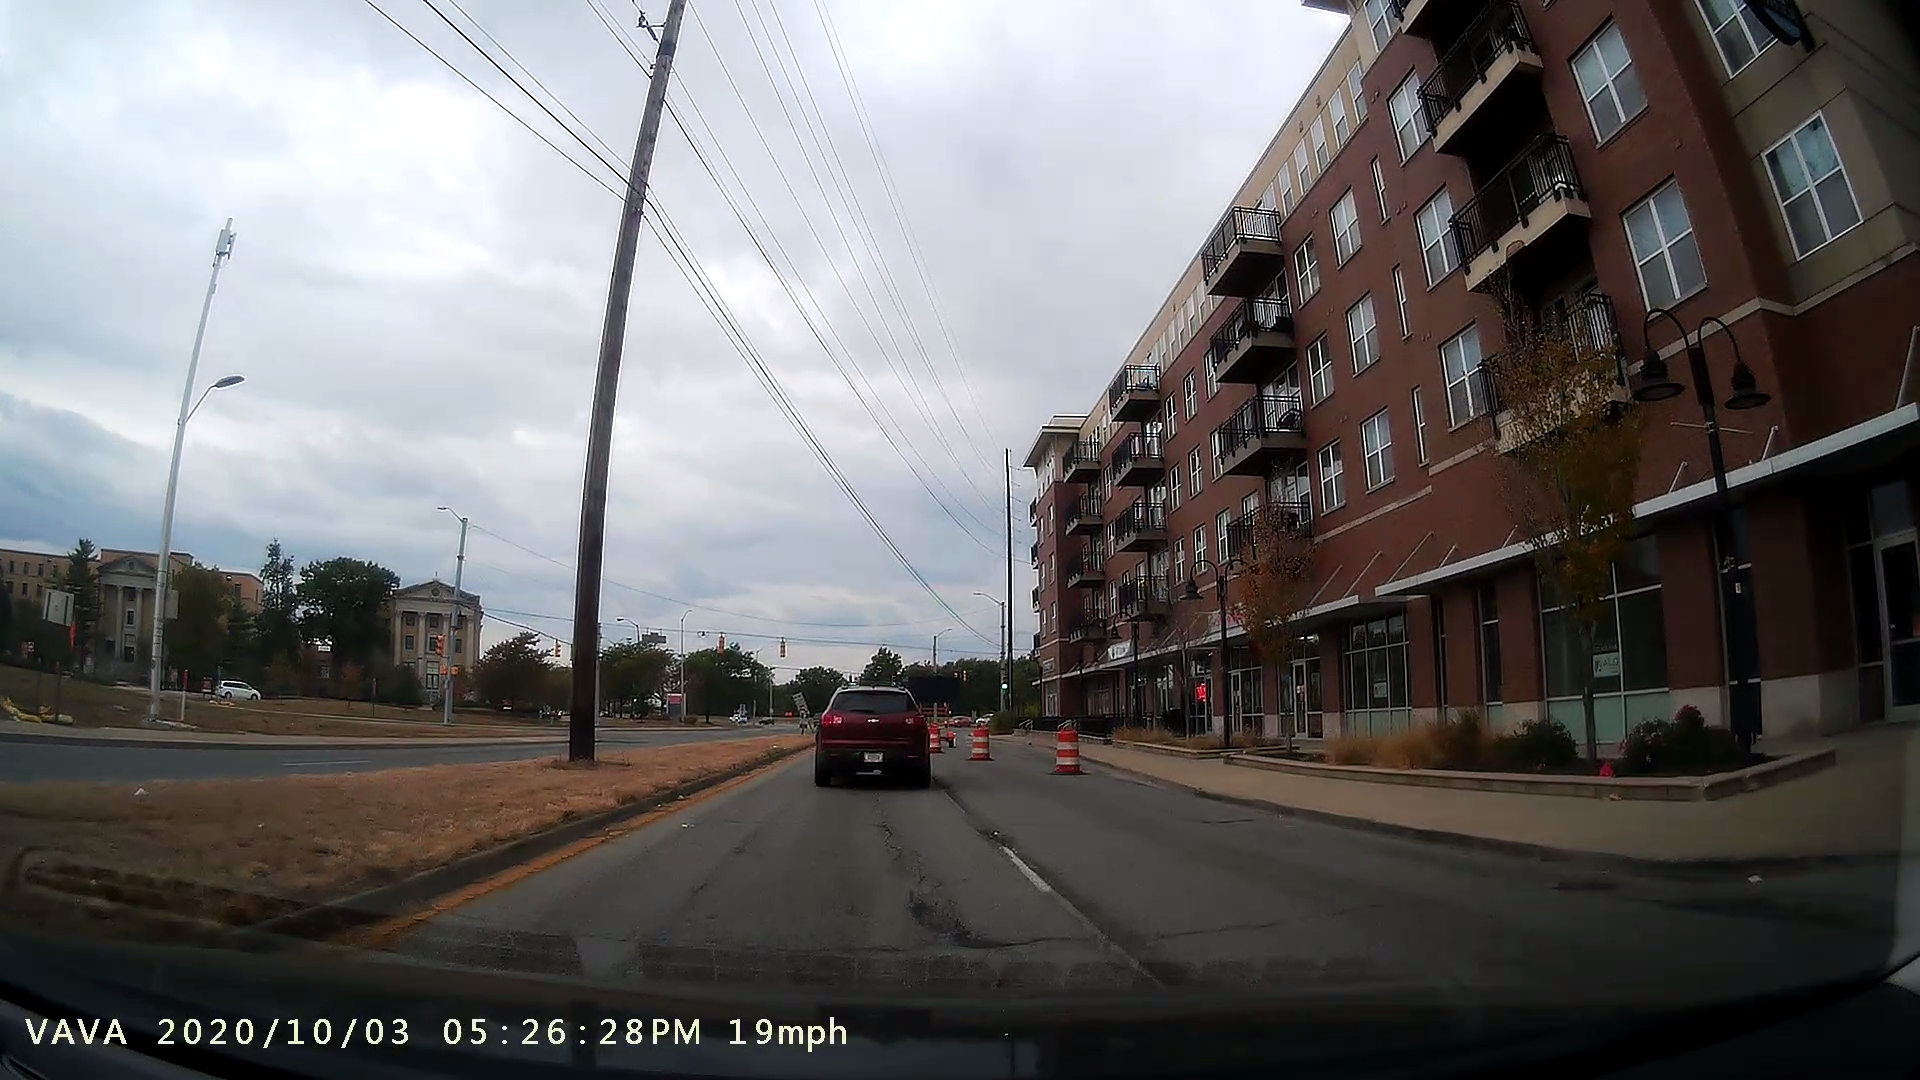const_barrel: (1047, 713, 1095, 778)
